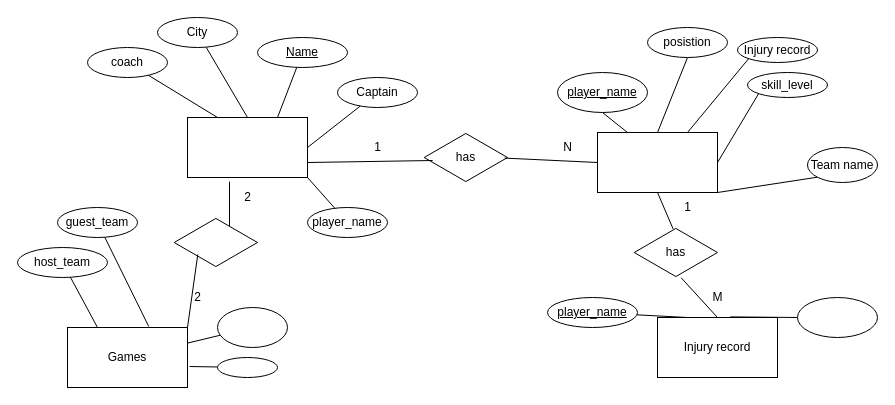
Image size: 895x405. Some labels were removed from this diagram. The shapes that lost their labels are listed below. From the top down, each one's centre as x and y in pixels, then its label:
At pixel 247 147: "Teams".
At pixel 657 162: "Players".
At pixel 215 242: "Plays".
At pixel 252 327: "Date".
At pixel 837 317: "description".
At pixel 247 367: "Score".
